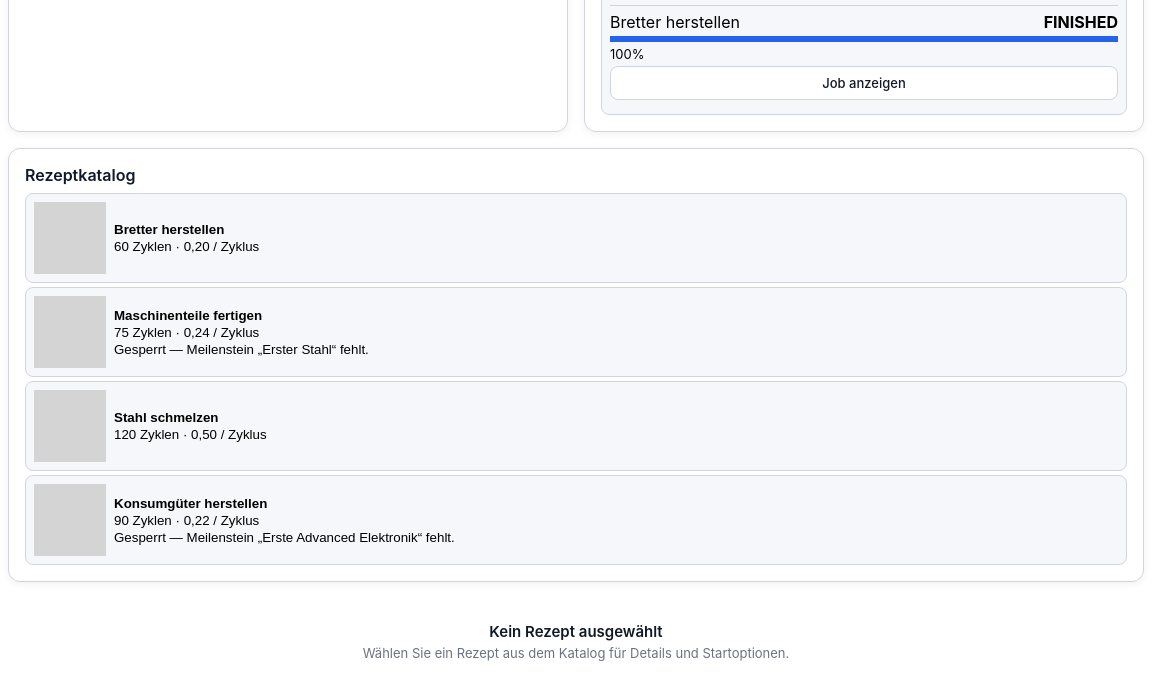
Test: ProductionScreen › shows in-transit quantity without changing Verfügbar or Status
(page scrolled)
Click the button "Maschinenteile fertigen". click: (70, 332)
box: [25,287,1127,377]
(page scrolled)
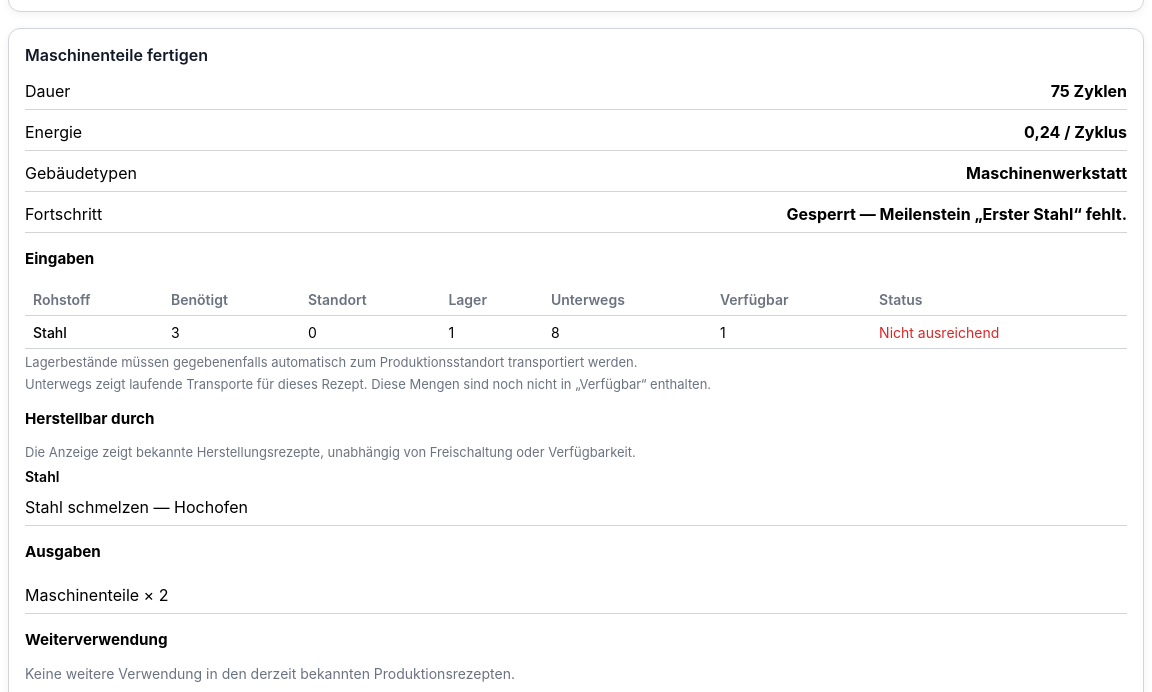
Check: the table is shown, box [25,284,1127,349]
Check: the row "Stahl 3 0 1 8 1 Nicht ausreichend" is shown, box [25,316,1127,348]
